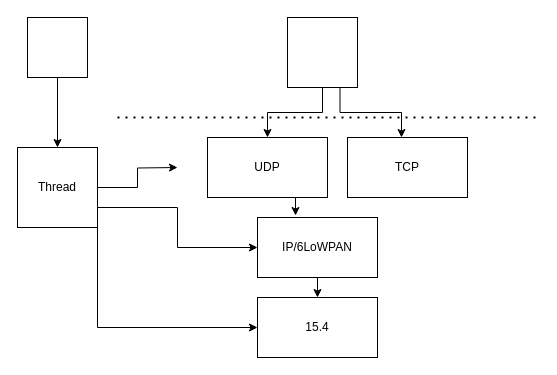
Some shapes in this 557 by 375 pixel diagram are drawn without their labels. The box of each missing label's shape, as (x1, y1, x2, y2) in pixels:
control: (26, 16, 88, 78)
data: (286, 16, 358, 88)
